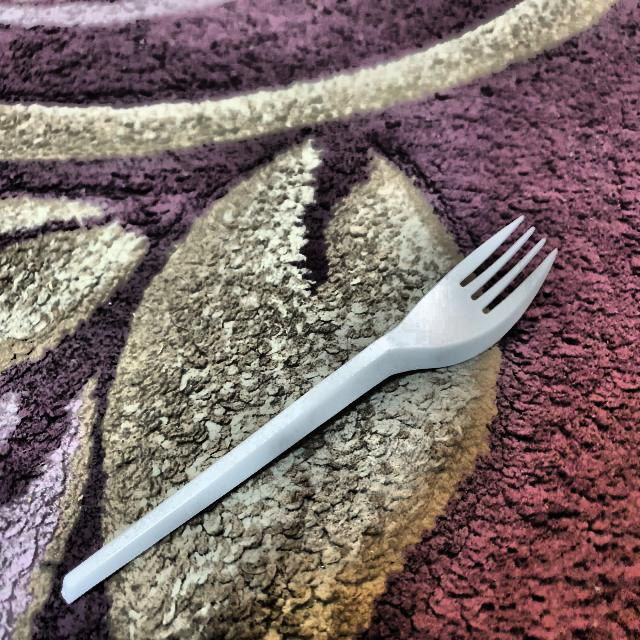plastic utensil: (58, 209, 562, 606)
